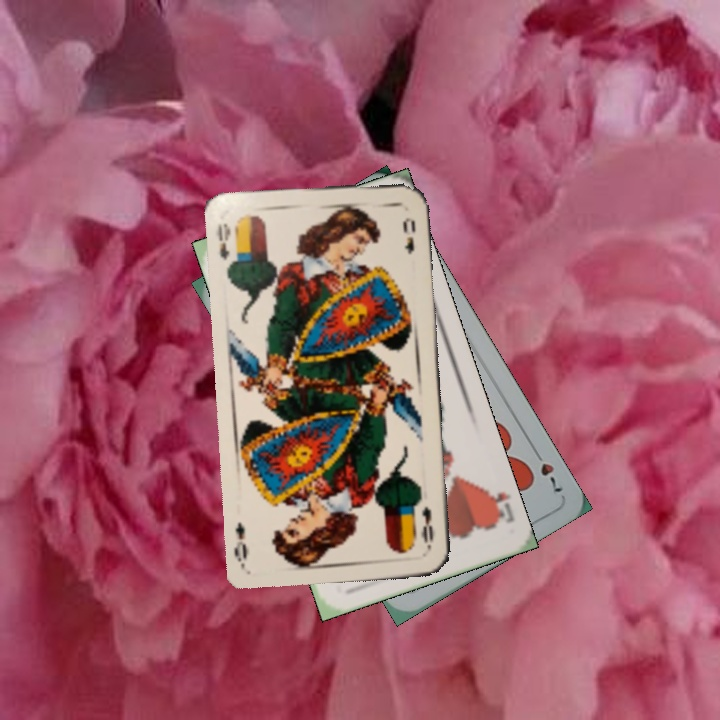EO: (417, 502, 436, 553), (213, 219, 234, 263)
H7: (528, 444, 565, 495)
HO: (481, 485, 517, 530)
